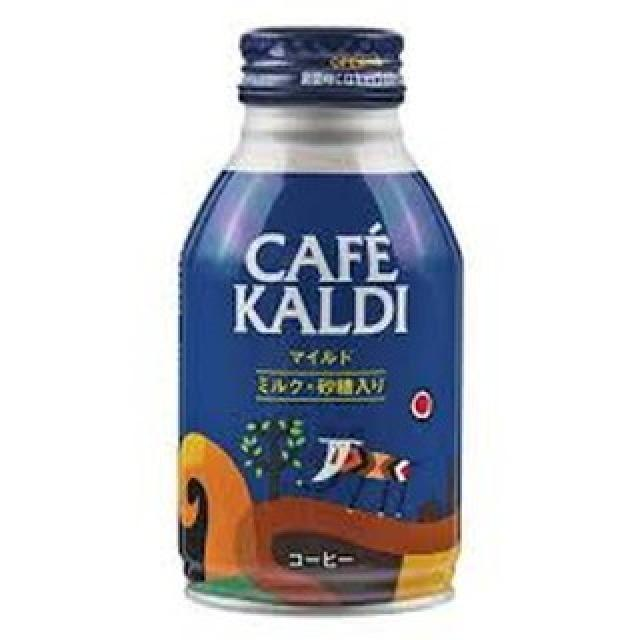can: (158, 24, 476, 605)
